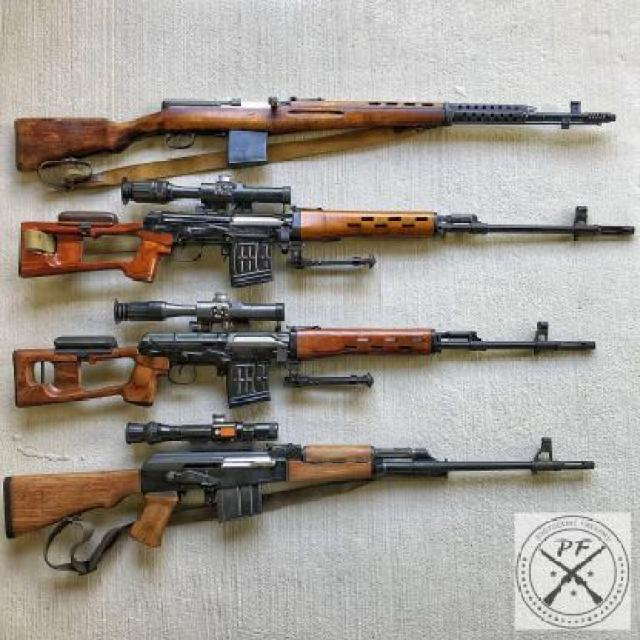weapon: (3, 402, 607, 594), (7, 277, 606, 431), (6, 170, 635, 297), (12, 85, 624, 188)
